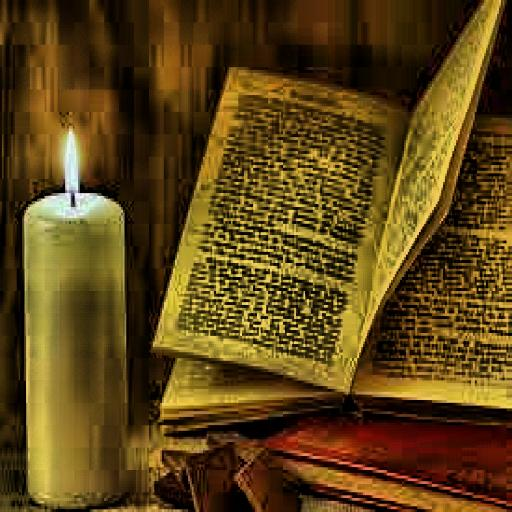fire: (54, 120, 91, 193)
